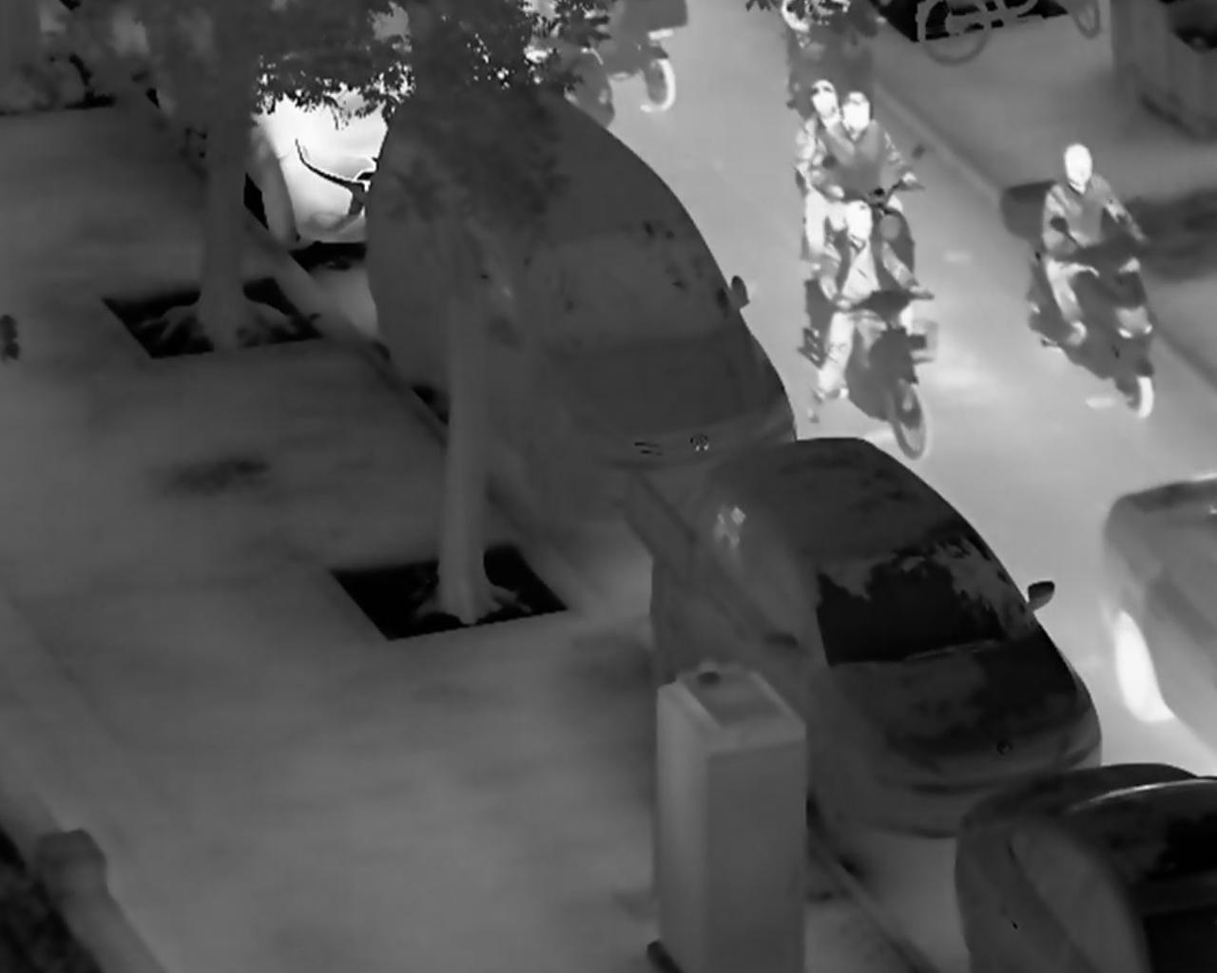person: (800, 198, 933, 403), (1035, 139, 1154, 352), (807, 89, 923, 261)
